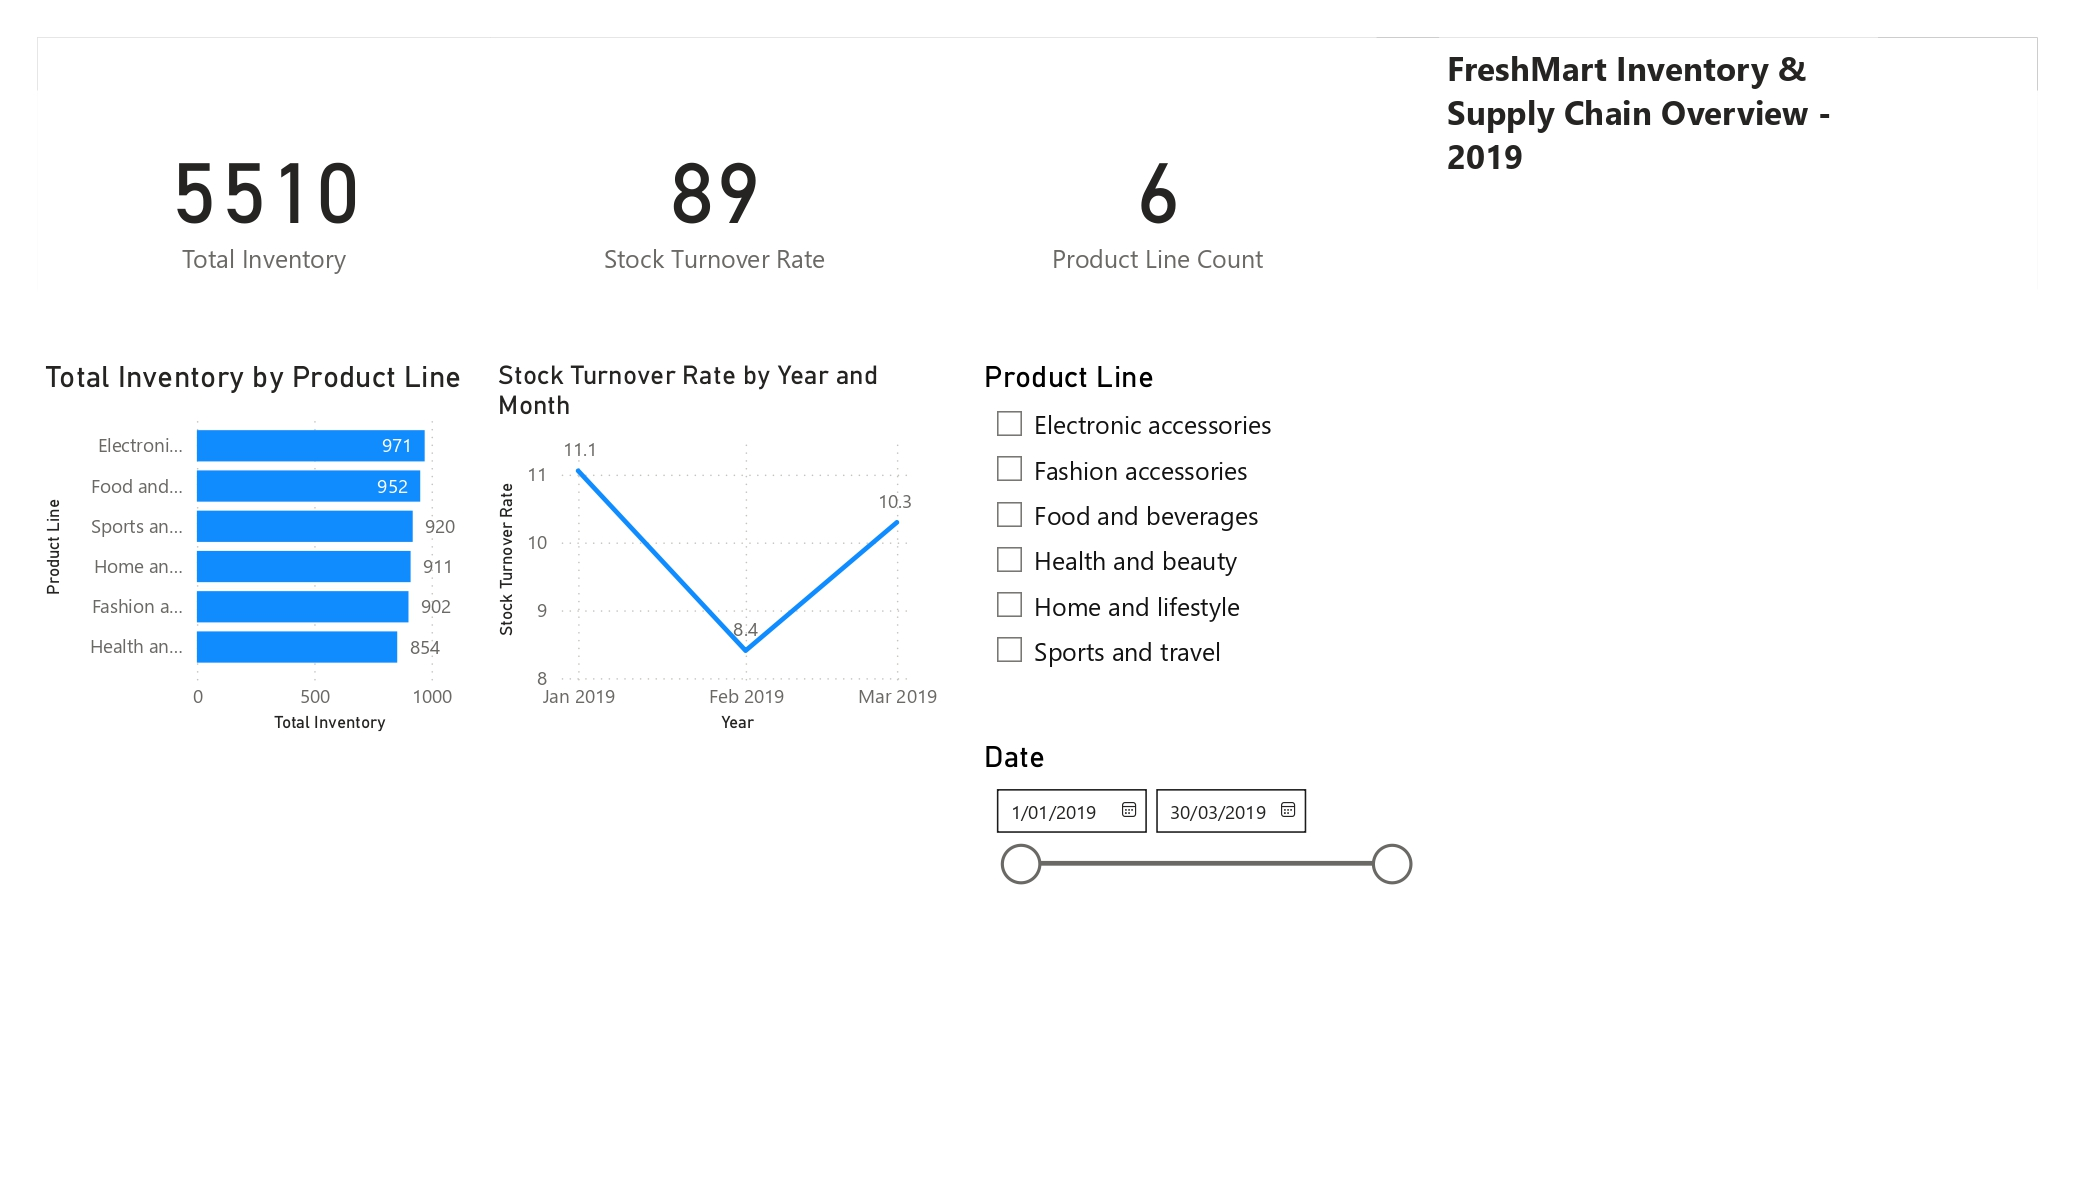

The dashboard page shown, as its layout file describes it:
{"tool":"powerbi","page":{"name":"Inventory & Supply Chain Dashboard","canvas":[1280,720],"ordinal":1},"visuals":[{"type":"card","fields":{"Values":["supermarket_sales.Total Inventory"]},"box":[0,0,290.4,206.5],"z":0},{"type":"card","fields":{"Values":["supermarket_sales.Stock Turnover Rate"]},"box":[290.4,0,286.3,206.5],"z":1000},{"type":"card","fields":{"Values":["supermarket_sales.Product Line Count"]},"box":[576.7,0,280.8,206.5],"z":2000},{"type":"clusteredBarChart","fields":{"Category":["supermarket_sales.Product Line"],"Y":["supermarket_sales.Total Inventory"]},"box":[0,206.5,290.4,242.2],"z":3000},{"type":"lineChart","fields":{"Y":["supermarket_sales.Stock Turnover Rate"],"Category":["supermarket_sales.Date.Variation.Date Hierarchy.Year","supermarket_sales.Date.Variation.Date Hierarchy.Month"]},"box":[290.4,206.5,290.4,242.2],"z":4000},{"type":"slicer","title":"Product Line","fields":{"Values":["supermarket_sales.Product Line"]},"box":[601.5,206.5,286.3,242.2],"z":5000},{"type":"slicer","title":"Date","fields":{"Values":["supermarket_sales.Date"]},"box":[601.5,448.7,286.3,121.1],"z":6000},{"type":"textbox","box":[896.5,0,281,206],"z":7000}]}

Visuals, with their boxes on the page's 1280x720 design canvas (x1, y1, x2, y2). These are canvas units, not pixel positions in the 2075x1200 screenshot, which may show the page scaled, cropped or inside an application window:
card - supermarket_sales.Total Inventory: left=0, top=0, right=290, bottom=206
card - supermarket_sales.Stock Turnover Rate: left=290, top=0, right=577, bottom=206
card - supermarket_sales.Product Line Count: left=577, top=0, right=858, bottom=206
clusteredBarChart - supermarket_sales.Product Line x supermarket_sales.Total Inventory: left=0, top=206, right=290, bottom=449
lineChart - supermarket_sales.Stock Turnover Rate x supermarket_sales.Date.Variation.Date Hierarchy.Year: left=290, top=206, right=581, bottom=449
"Product Line" slicer: left=602, top=206, right=888, bottom=449
"Date" slicer: left=602, top=449, right=888, bottom=570
textbox: left=896, top=0, right=1178, bottom=206
